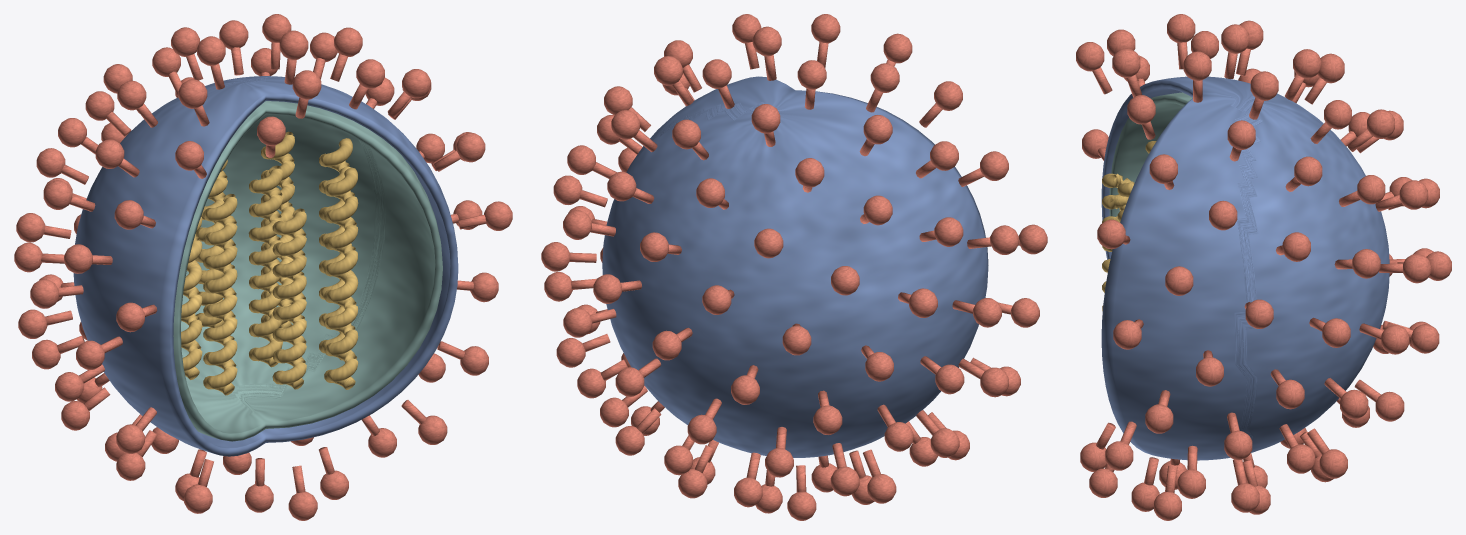
The model's file is cutaway.glb.
The picture shows the model from 3 angles, left to right: view 1: azimuth 30°, elevation 25°; view 2: azimuth 150°, elevation 25°; view 3: azimuth 270°, elevation 25°; orthographic projection.
Visible parts, largest first — view 1: espiculas_mesh, matriz_mesh, envelope_mesh, nucleocapsideo_mesh; view 2: envelope_mesh, espiculas_mesh; view 3: envelope_mesh, espiculas_mesh, matriz_mesh, nucleocapsideo_mesh.
Boxes of the visible parts, <box> form: espiculas_mesh: <box>14,14,512,520</box>; matriz_mesh: <box>173,101,442,441</box>; envelope_mesh: <box>73,76,458,456</box>; nucleocapsideo_mesh: <box>181,131,358,395</box>; envelope_mesh: <box>602,76,988,457</box>; espiculas_mesh: <box>541,14,1047,520</box>; envelope_mesh: <box>1101,76,1389,460</box>; espiculas_mesh: <box>1076,14,1451,520</box>; matriz_mesh: <box>1109,92,1192,216</box>; nucleocapsideo_mesh: <box>1102,141,1156,310</box>.
Size of the model in its own units: 2.64 by 2.63 by 1.95.
4 materials, 4 textured.
